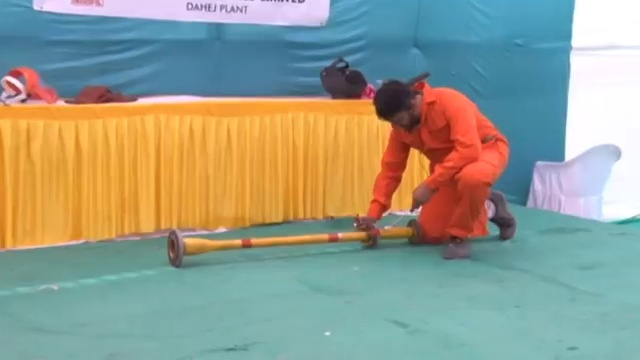helmet_off: (373, 78, 419, 127)
person: (366, 73, 517, 254)
